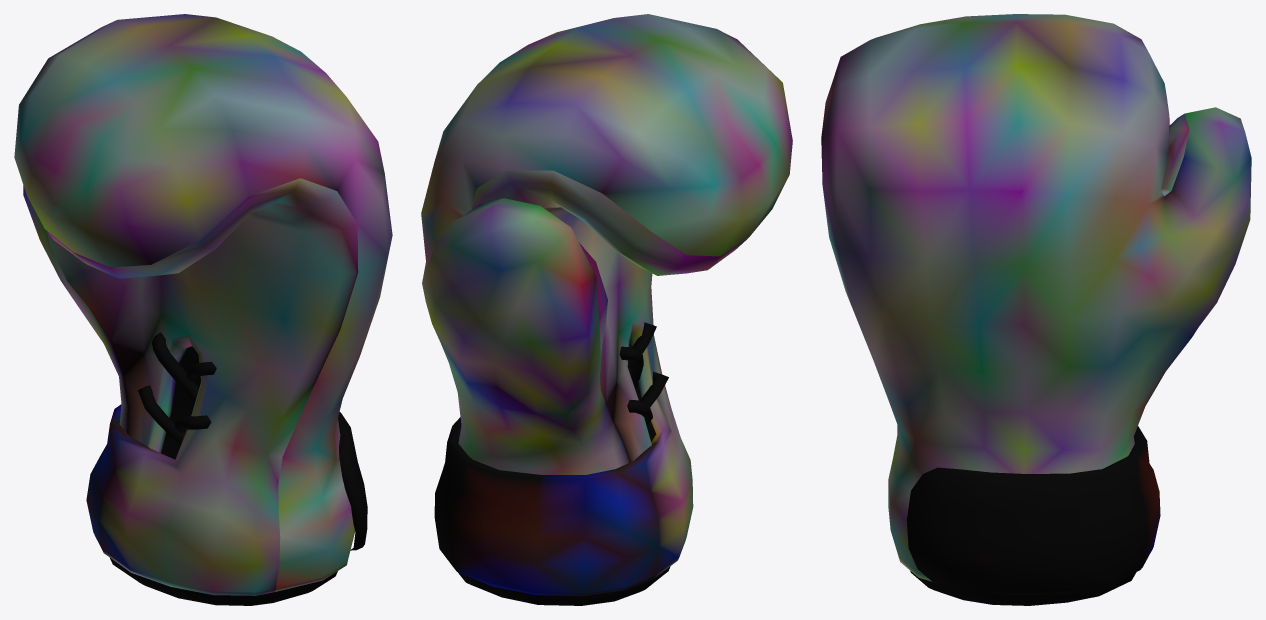
Rendered from ItemsMode_01_Items_BoxingGlove2_SM.glb.
3 views of the same model, side by side, from view 1: azimuth 30°, elevation 25°; view 2: azimuth 150°, elevation 25°; view 3: azimuth 270°, elevation 25° (orthographic). The views are drawn at different scales.
Parts seen in each view (by area): view 1: Items_BoxingGlove2_SM; view 2: Items_BoxingGlove2_SM; view 3: Items_BoxingGlove2_SM.
Part boxes in pixels (x1=…): Items_BoxingGlove2_SM: x1=14, y1=14, x2=392, y2=605; Items_BoxingGlove2_SM: x1=421, y1=14, x2=792, y2=605; Items_BoxingGlove2_SM: x1=821, y1=14, x2=1251, y2=605.
Bounding box in the file's own units: 0.3693 × 0.5986 × 0.4548.
